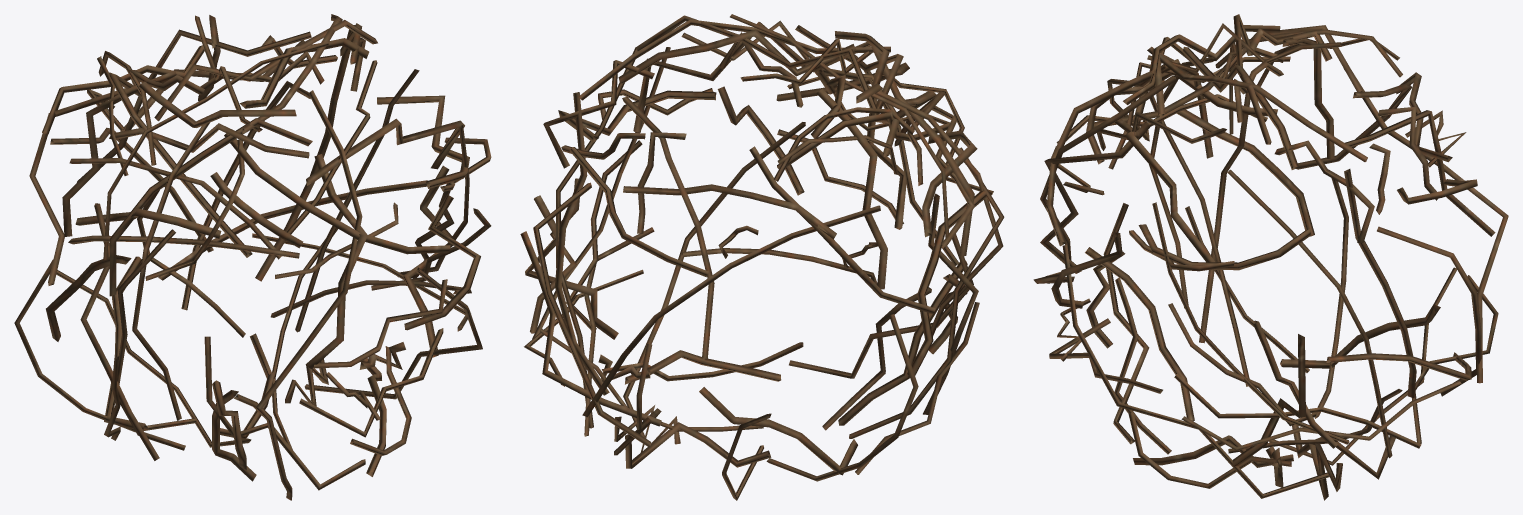
File: tumbleweed.glb
3 renders of one model, left to right at view 1: azimuth 30°, elevation 25°; view 2: azimuth 150°, elevation 25°; view 3: azimuth 270°, elevation 25°, orthographic. The views are drawn at different scales.
Visible parts, largest first — view 1: tumbleweed; view 2: tumbleweed; view 3: tumbleweed.
Part boxes in pixels (x1,y1,x2,y2): tumbleweed: [14, 14, 491, 500]; tumbleweed: [520, 14, 1004, 500]; tumbleweed: [1033, 14, 1508, 500].
Size of the model in its own units: 1.14 by 1.13 by 1.16.
Materials: 1 (1 with a texture image).
